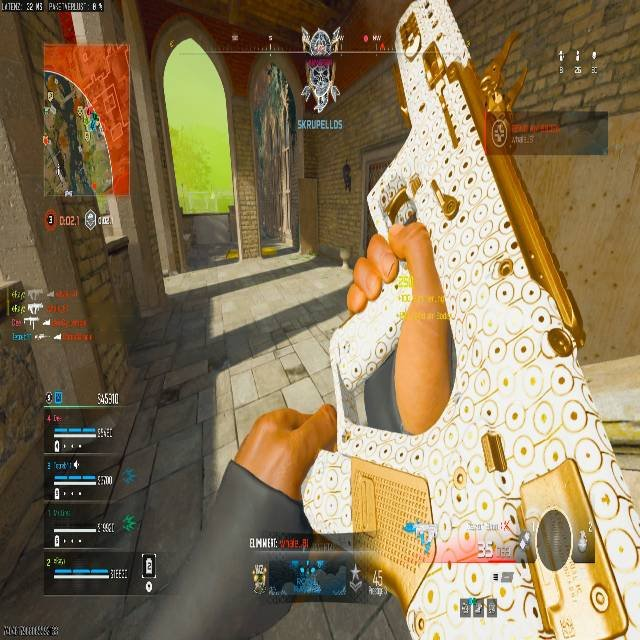head: (308, 66, 326, 82)
player: (301, 66, 335, 118)
